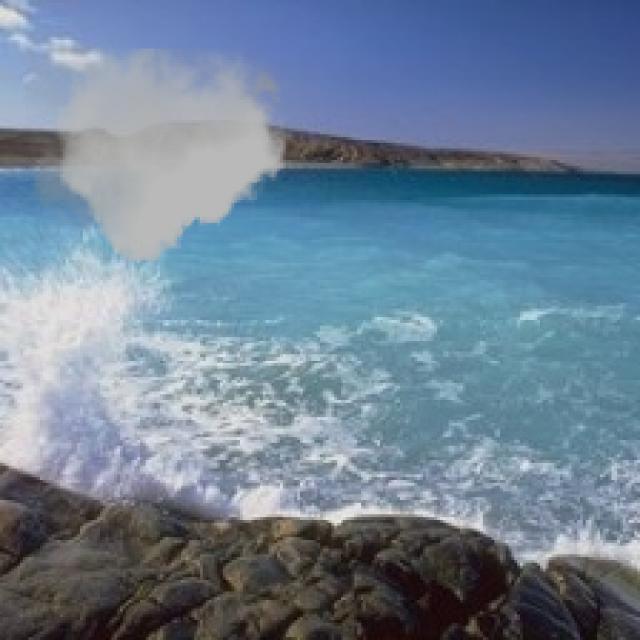smoke: (26, 48, 291, 263)
